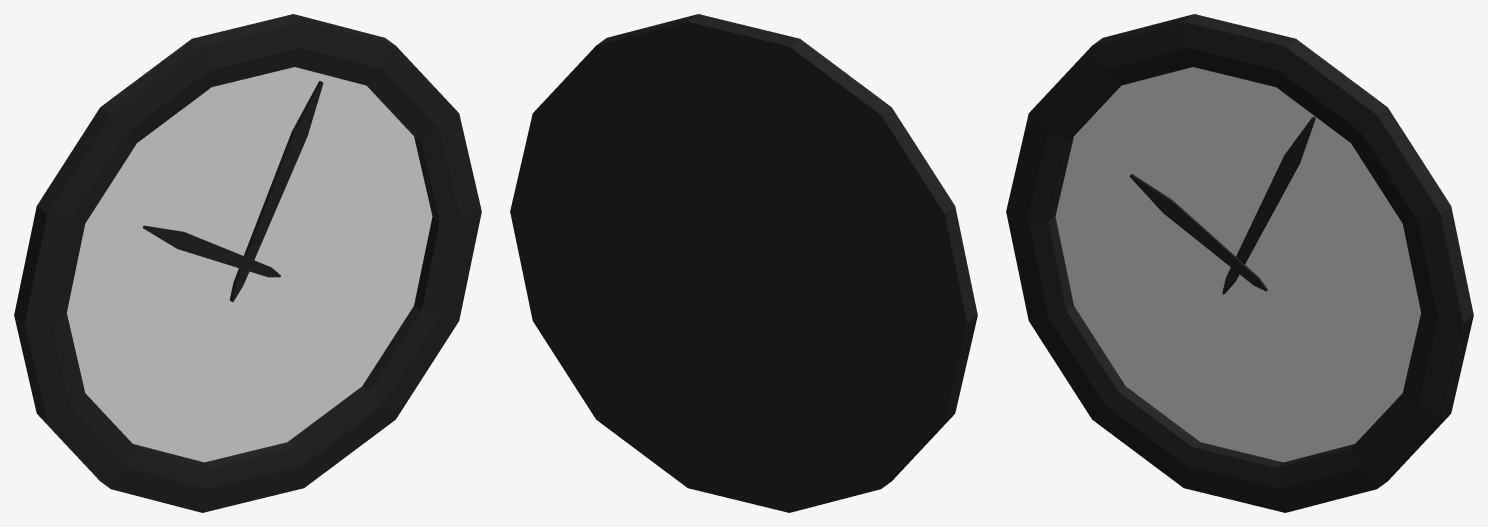
Rendered from SM_clock.fbx.
The picture shows the model from 3 angles, left to right: view 1: azimuth 30°, elevation 25°; view 2: azimuth 150°, elevation 25°; view 3: azimuth 330°, elevation 25°; orthographic projection.
Visible parts, largest first — view 1: Cylinder004; view 2: Cylinder004; view 3: Cylinder004.
Boxes of the visible parts, <box> form: Cylinder004: <box>14,14,481,512</box>; Cylinder004: <box>510,14,977,512</box>; Cylinder004: <box>1006,14,1473,512</box>.
Bounding box in the file's own units: 18.5 × 18.03 × 0.8669.
